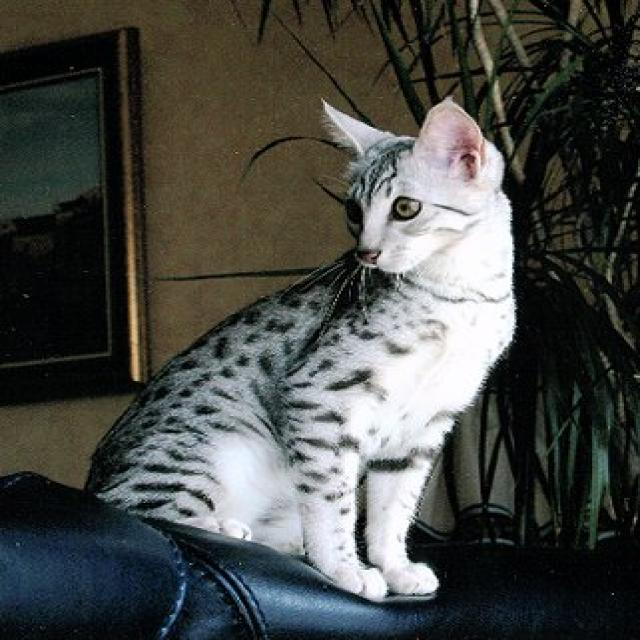Egyptian_Mau: (319, 95, 500, 269)
